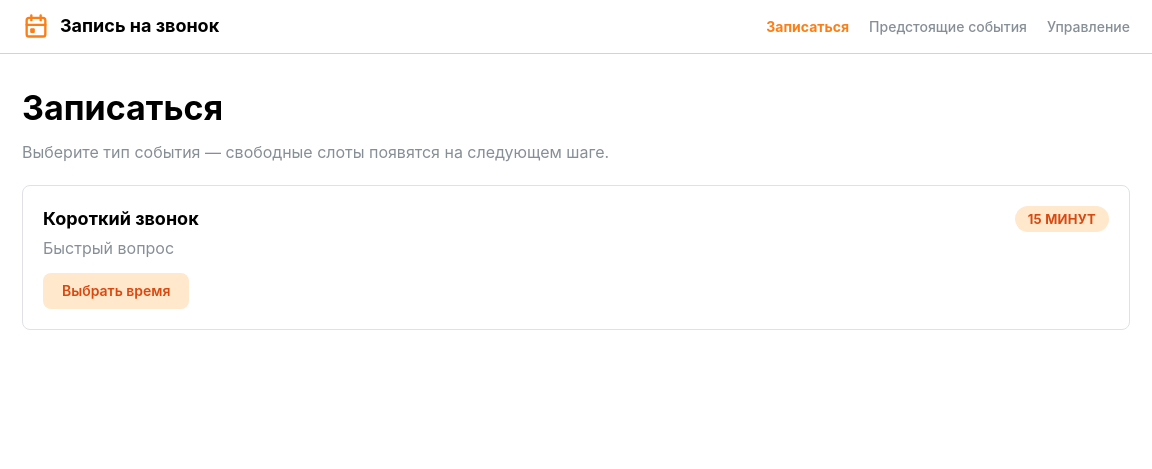
it: App › переходит со списка типов событий на страницу типа
Click the link "Выбрать время" at (116, 291), box x1=43 y1=273 x2=190 y2=309
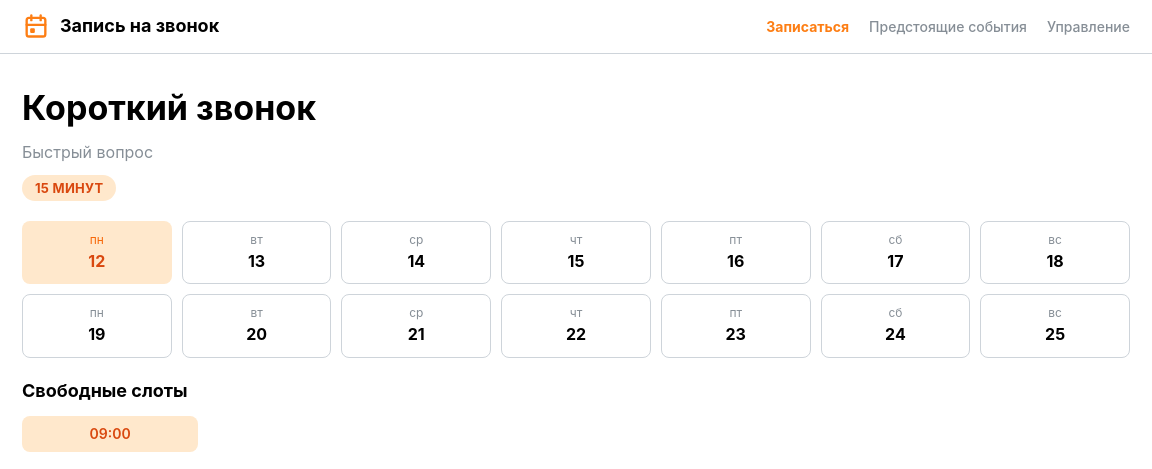
Expected: the heading "Короткий звонок" is shown, x1=22 y1=87 x2=316 y2=128
Expected: the button "09:00" is shown, x1=22 y1=416 x2=198 y2=452
